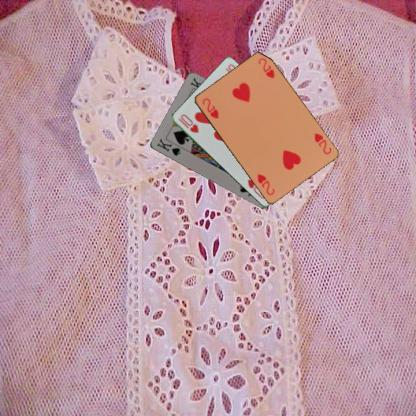10h: (176, 112, 199, 134)
2h: (311, 130, 332, 156), (200, 96, 220, 121)
Ks: (154, 136, 182, 157)
